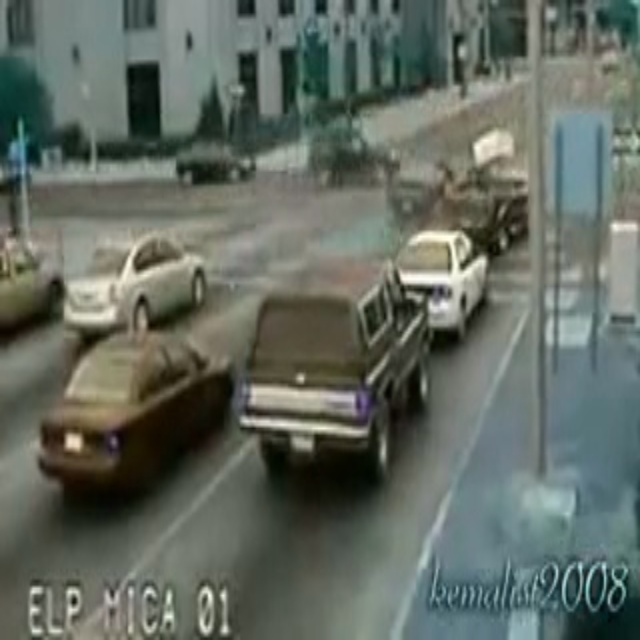acc: (374, 152, 532, 262)
